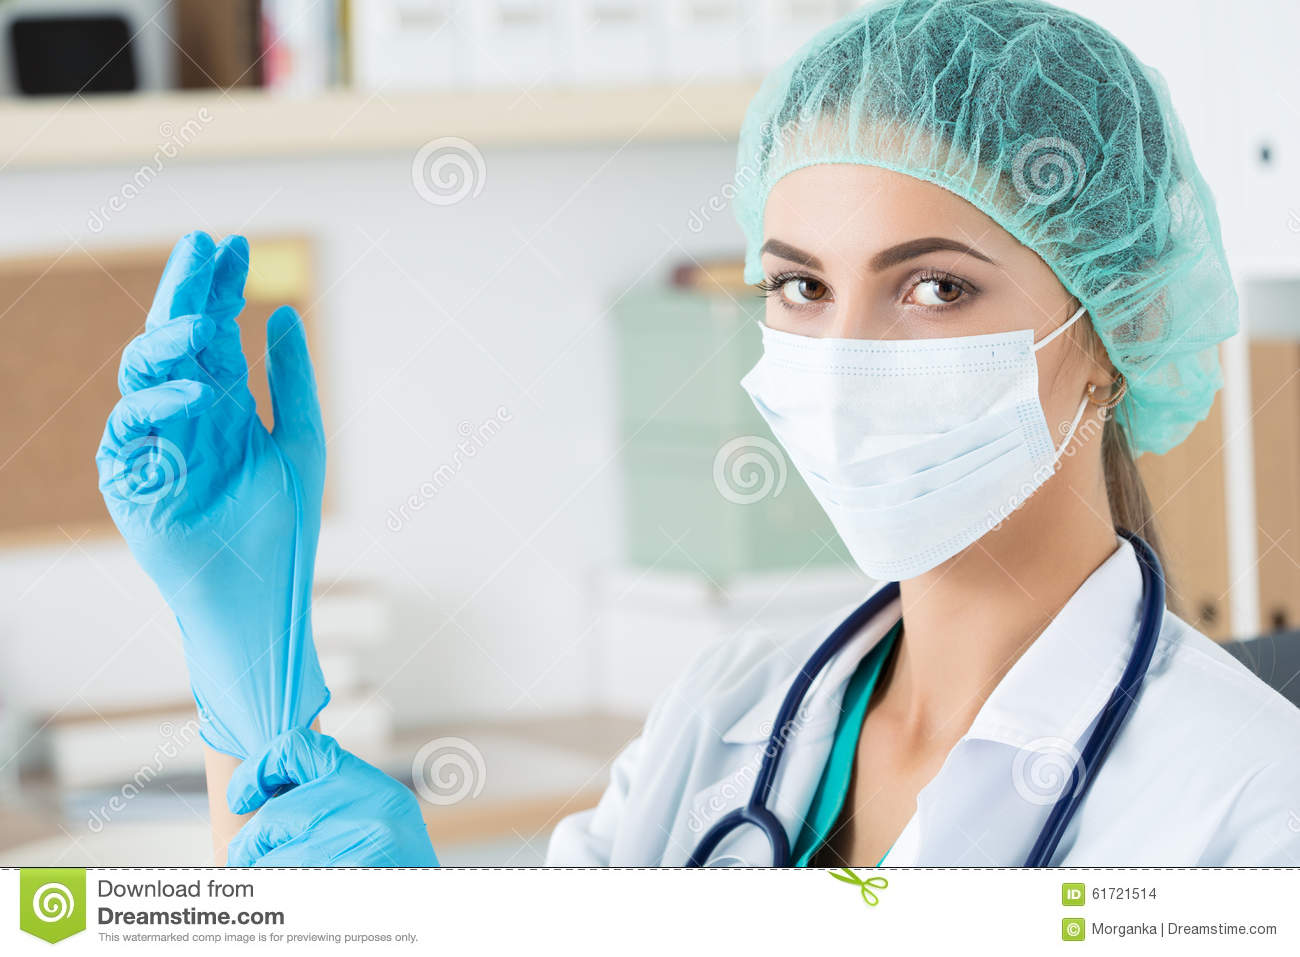mask: (723, 314, 1086, 591)
